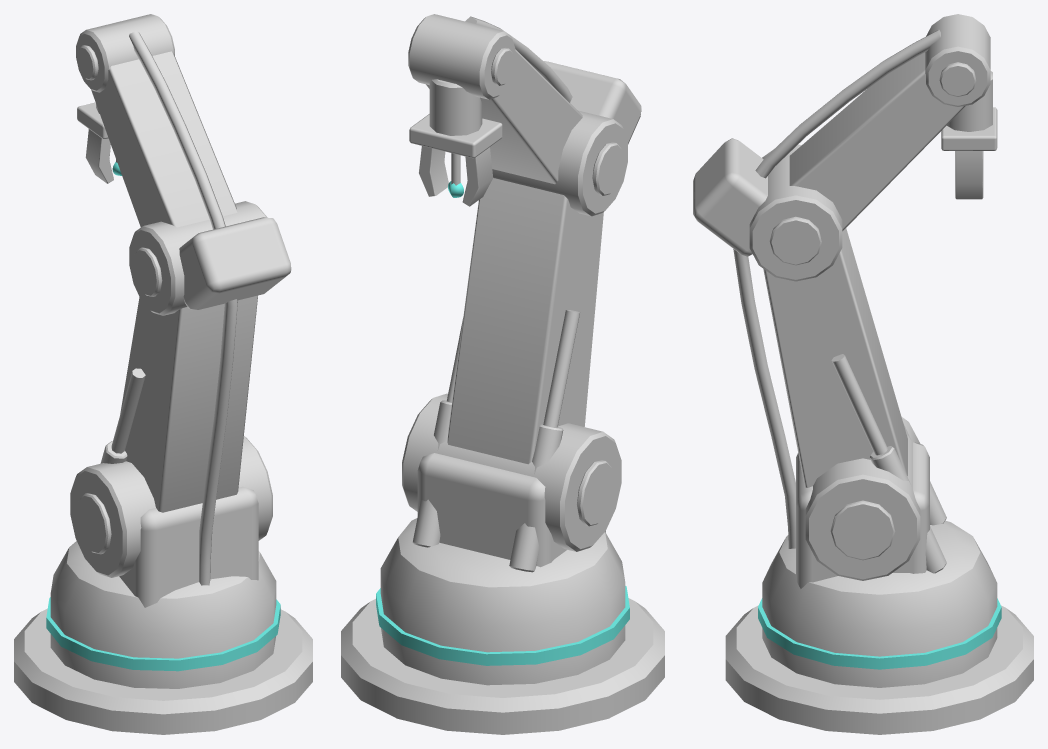
Rendered from RobotArm.glb.
The picture shows the model from 3 angles, left to right: view 1: azimuth 30°, elevation 25°; view 2: azimuth 150°, elevation 25°; view 3: azimuth 270°, elevation 25°; orthographic projection. The views are drawn at different scales.
Parts seen in each view (by area): view 1: Body, Glow; view 2: Body, Glow; view 3: Body, Glow.
Boxes of the visible parts, x1=… form: Body: x1=14, y1=14, x2=312, y2=734; Glow: x1=46, y1=162, x2=280, y2=671; Body: x1=341, y1=14, x2=664, y2=734; Glow: x1=376, y1=181, x2=629, y2=665; Body: x1=693, y1=14, x2=1033, y2=734; Glow: x1=758, y1=598, x2=1001, y2=669.
Bounding box in the file's own units: 5.6 × 12.61 × 6.1.
